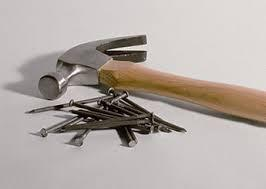hammer: (35, 31, 265, 122)
